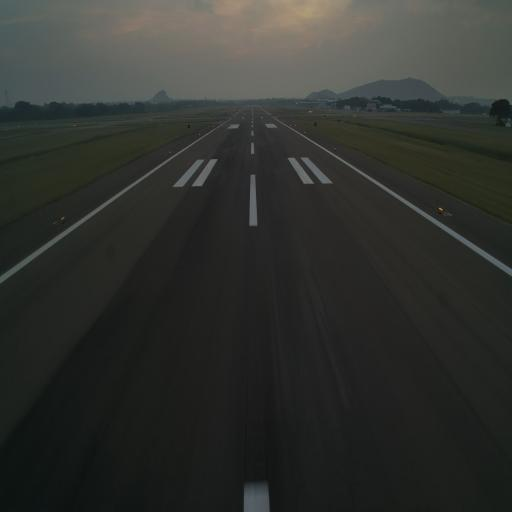on: (437, 201, 444, 214), (59, 214, 67, 224), (168, 147, 172, 155), (333, 145, 337, 152)
